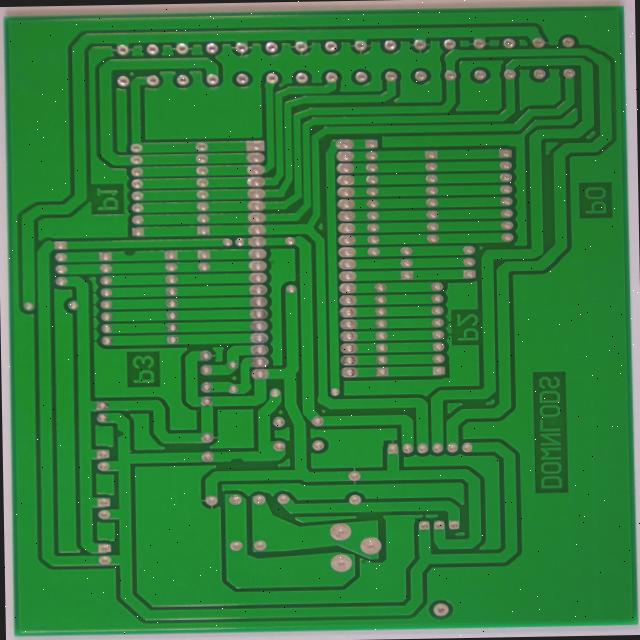mouse_bite: (124, 446, 139, 464), (132, 257, 150, 270), (245, 477, 266, 488)
